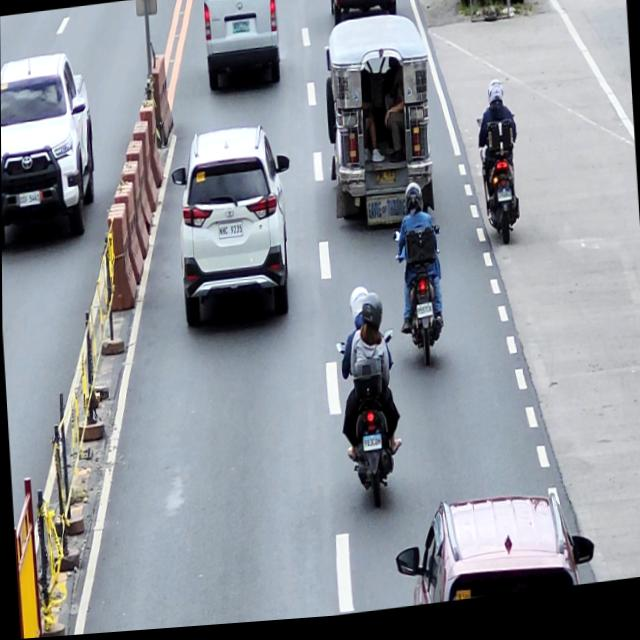Car: (169, 125, 299, 334), (392, 490, 596, 614), (0, 49, 98, 253), (202, 0, 283, 96), (329, 0, 399, 33)
Jeep: (322, 14, 438, 242)
License-Plate: (217, 225, 242, 243), (375, 174, 397, 191), (19, 192, 41, 207), (363, 440, 381, 457), (416, 309, 433, 325), (232, 24, 250, 38), (497, 195, 511, 210)
Motorcycle: (334, 335, 403, 516), (393, 232, 447, 376), (477, 121, 523, 256)
